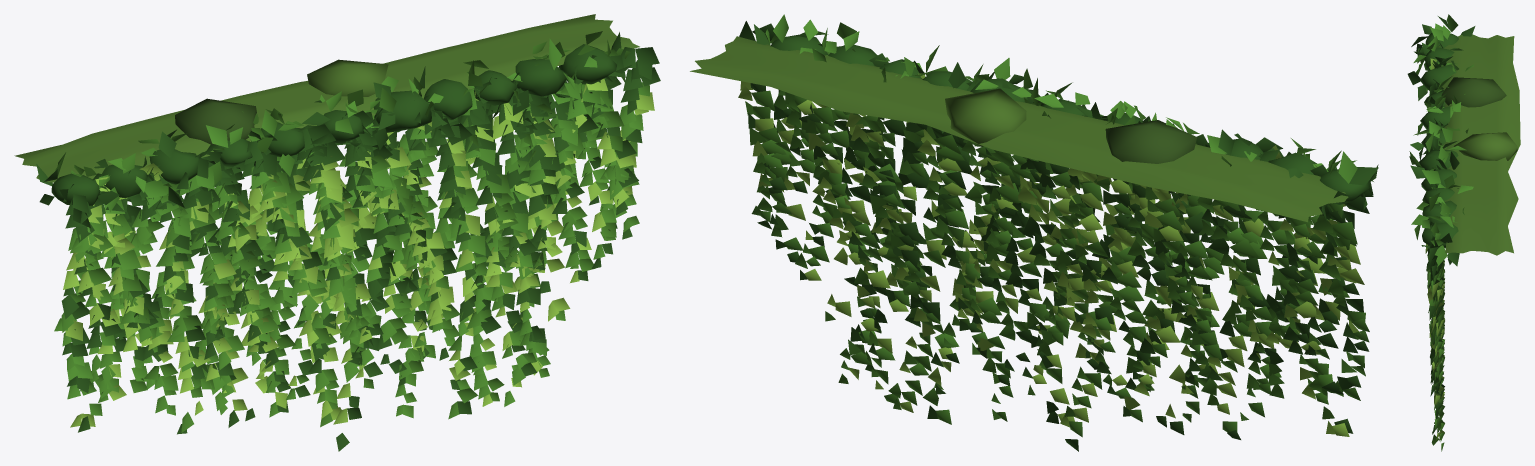
The model's file is PLANT_Ivy_Hang_4.glb.
3 renders of one model, left to right at view 1: azimuth 30°, elevation 25°; view 2: azimuth 150°, elevation 25°; view 3: azimuth 270°, elevation 25°, orthographic. The views are drawn at different scales.
Visible parts, largest first — view 1: PLANT_Ivy_Hang_4; view 2: PLANT_Ivy_Hang_4; view 3: PLANT_Ivy_Hang_4.
Part boxes in pixels (x1,y1,x2,y2): PLANT_Ivy_Hang_4: (14, 14, 660, 451); PLANT_Ivy_Hang_4: (690, 14, 1378, 451); PLANT_Ivy_Hang_4: (1407, 14, 1520, 451).
Bounding box in the file's own units: 4.3 × 2.4 × 0.9021.
